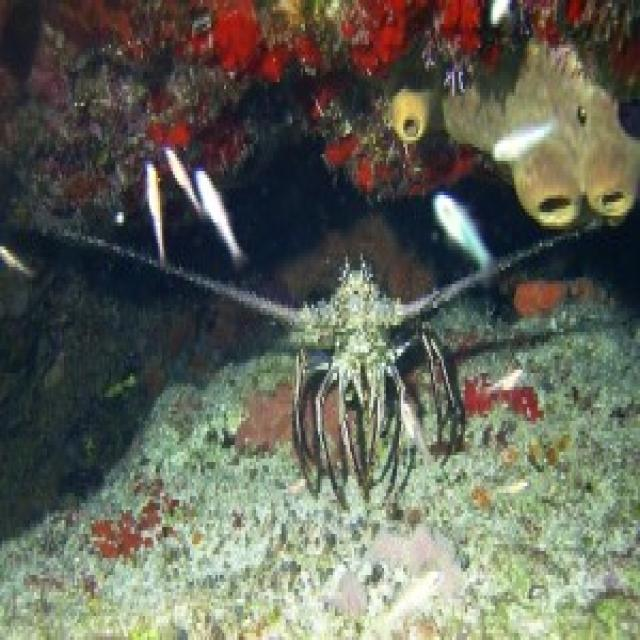lobsters: (177, 188, 528, 536)
